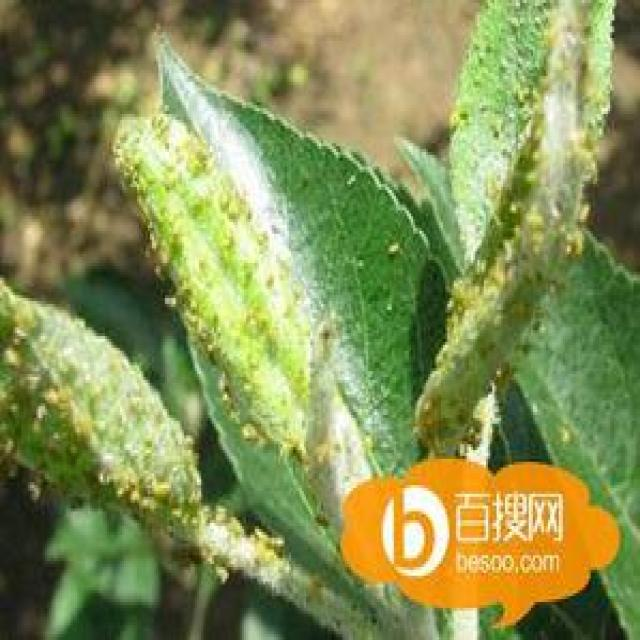Aphids: (1, 56, 328, 570), (472, 13, 600, 457)
